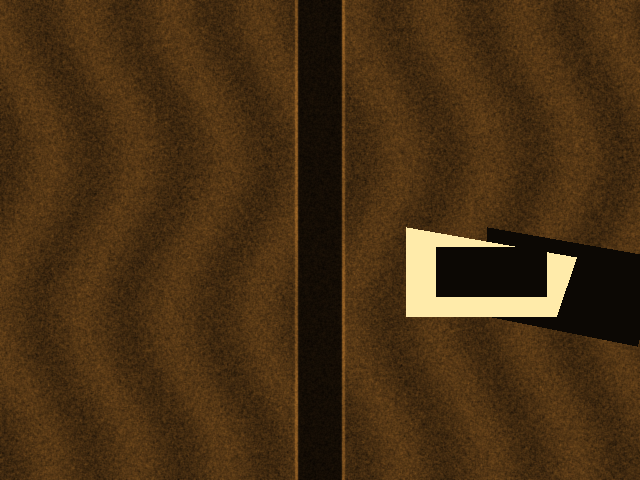Ship/Boat Debris: (406, 227, 576, 316)
